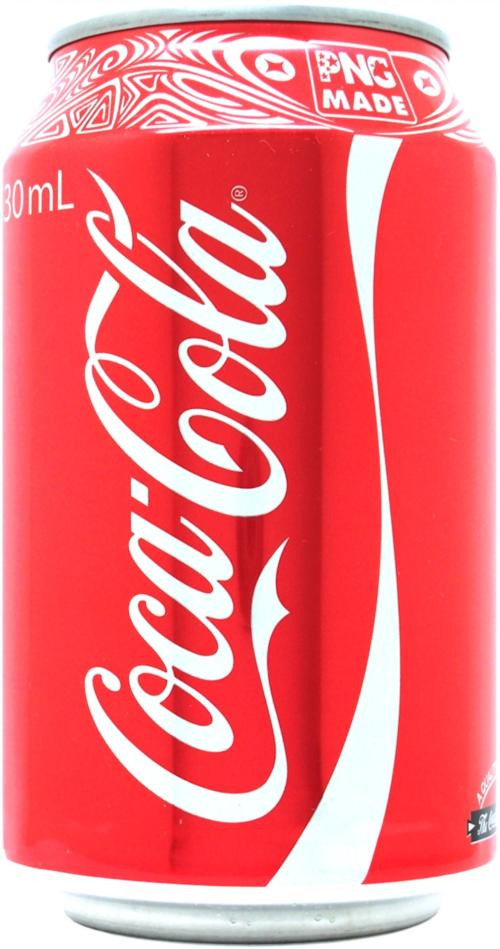coke: (4, 3, 489, 949)
